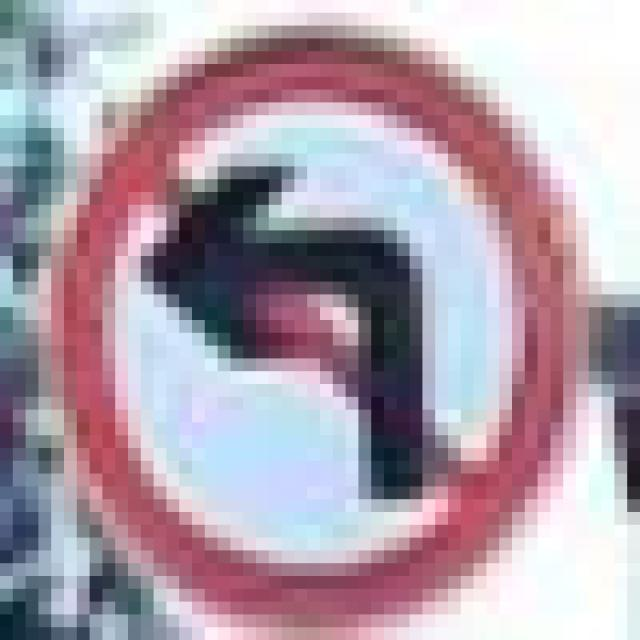left turn prohibited: (50, 18, 586, 622)
